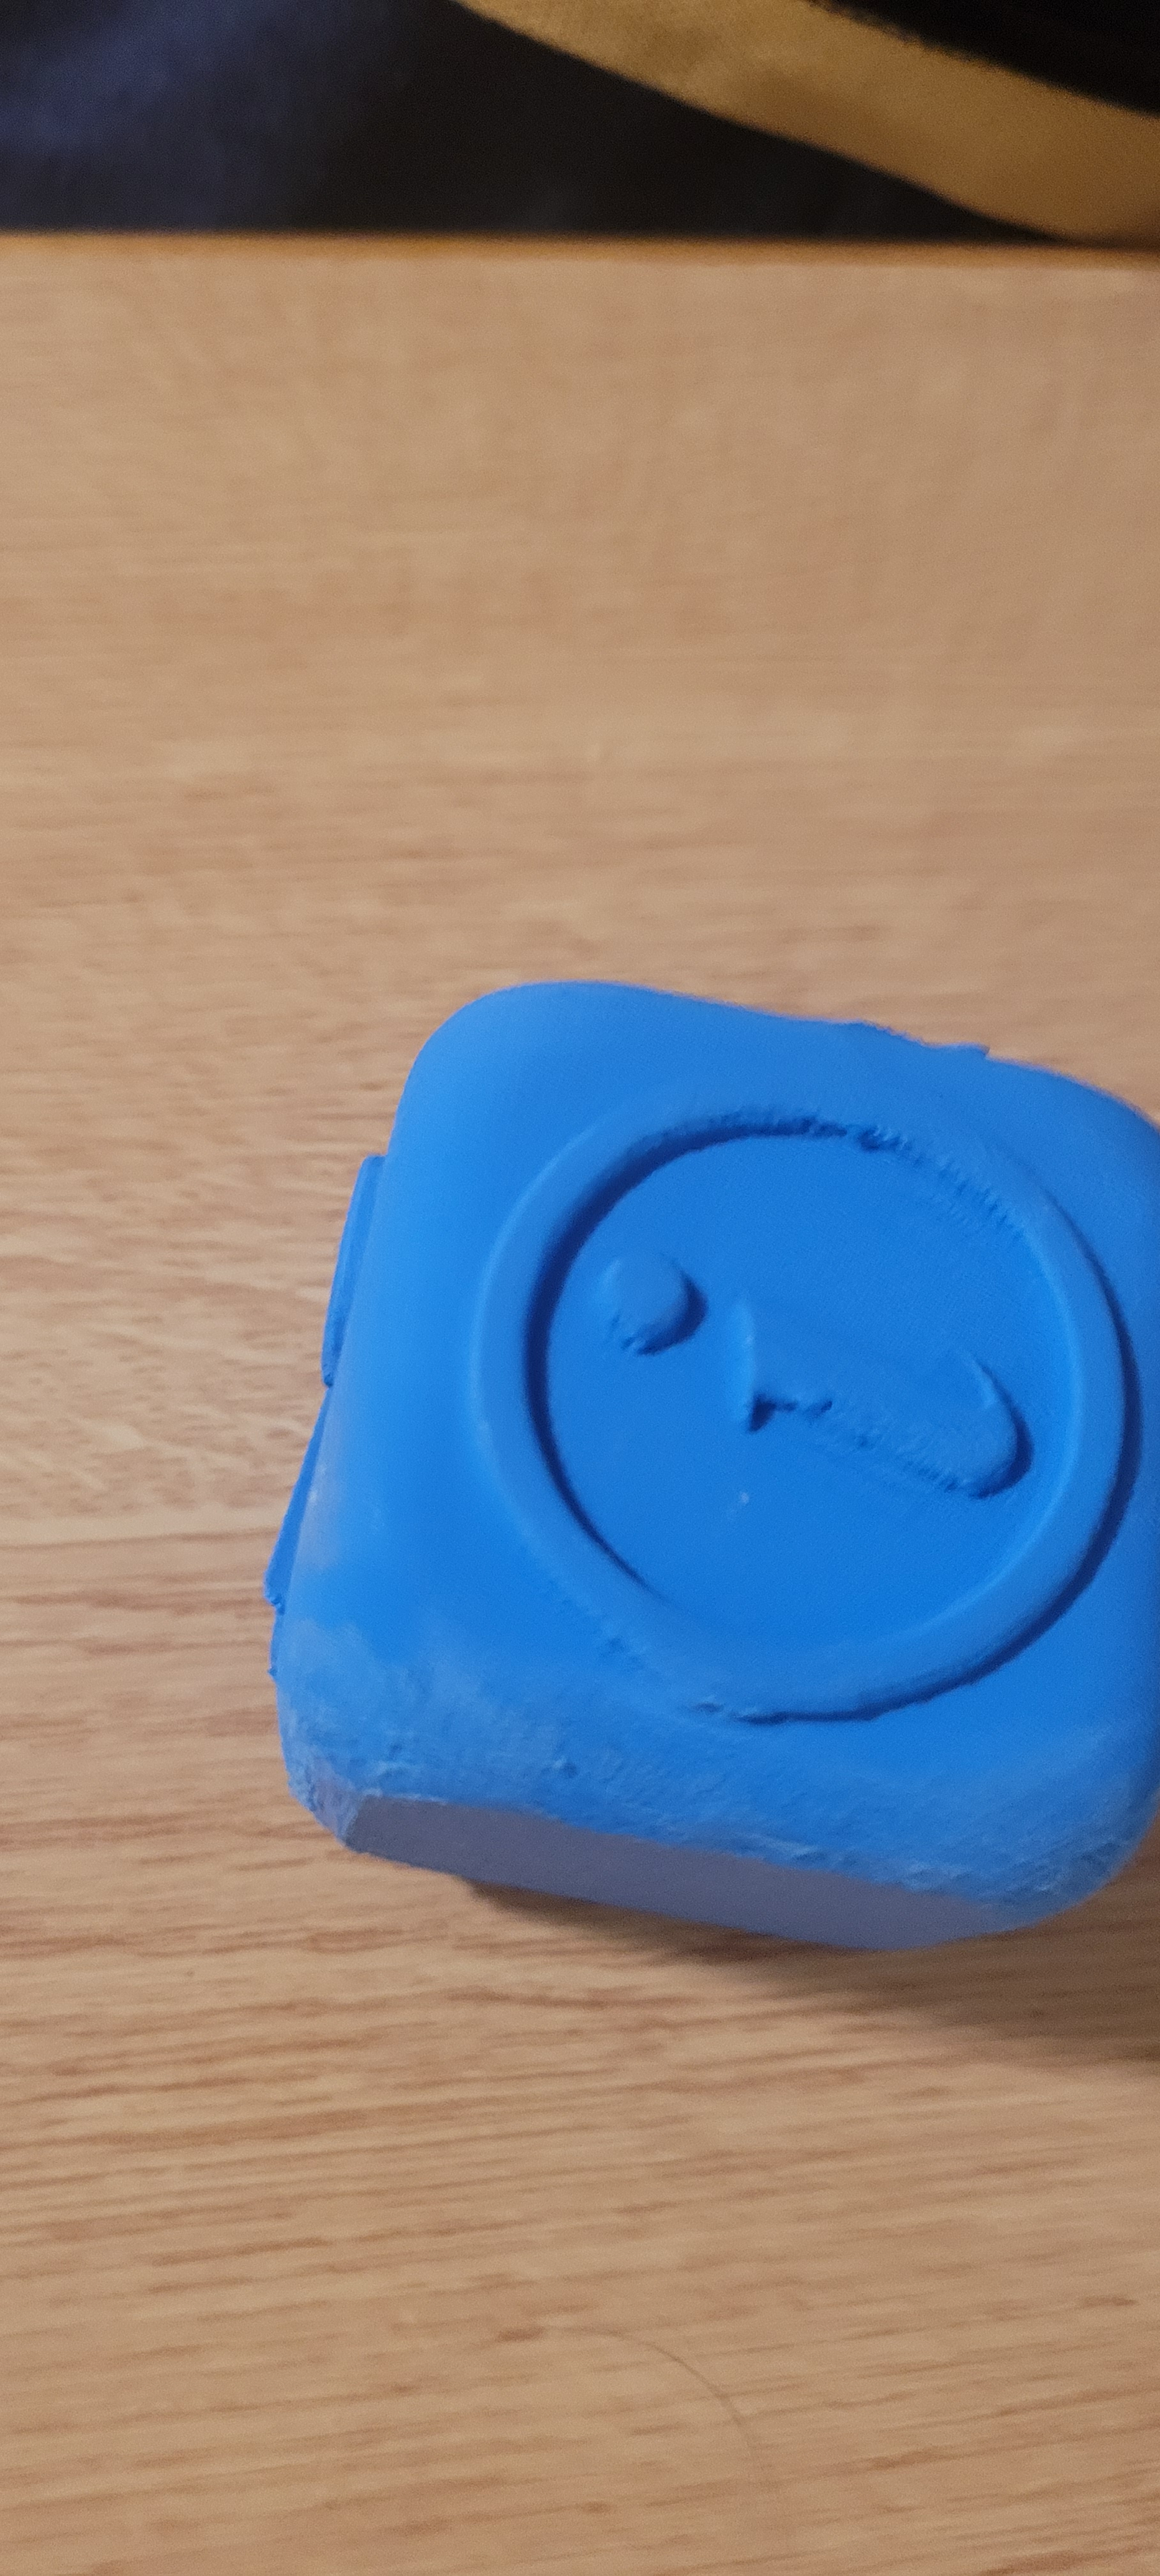Info: (434, 1079, 1142, 1728)
